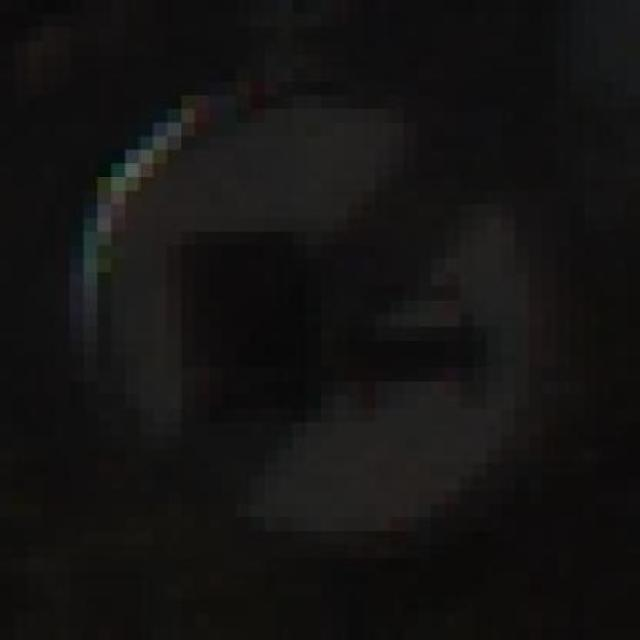Overtaking by trucks is prohibited: (28, 54, 612, 586)
